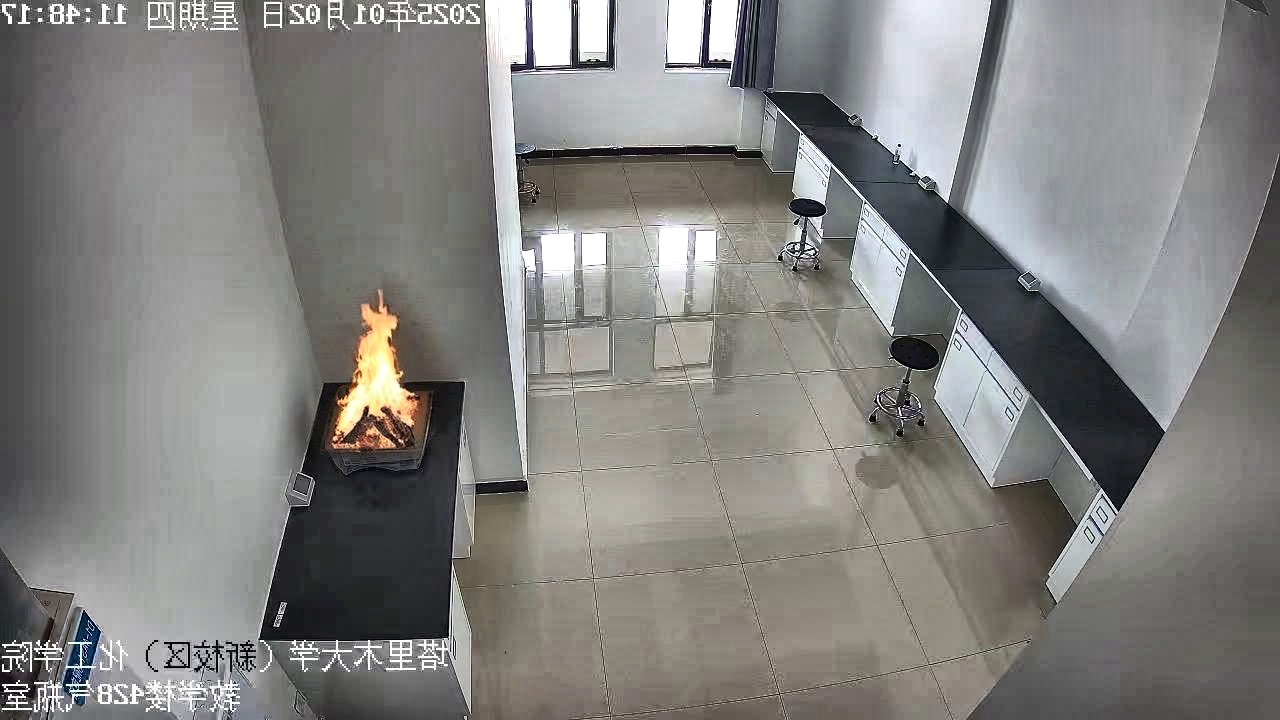fire: (288, 283, 442, 474)
